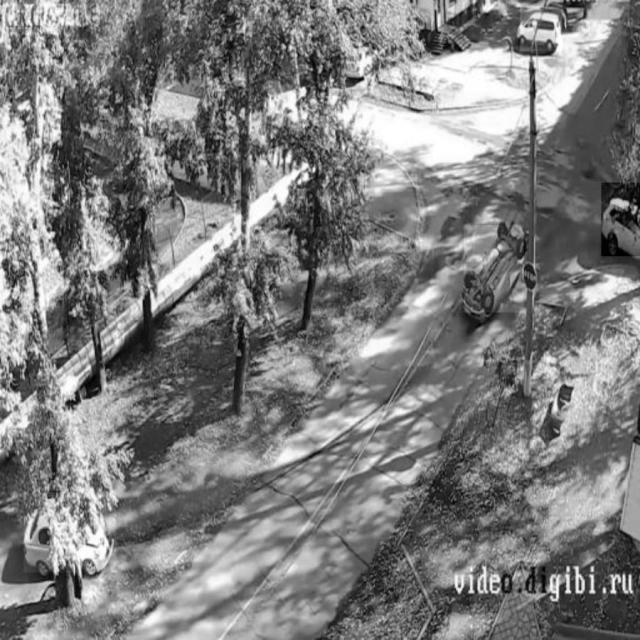vehicle: (23, 493, 115, 573), (464, 225, 524, 313), (601, 182, 640, 255), (519, 6, 563, 51)
